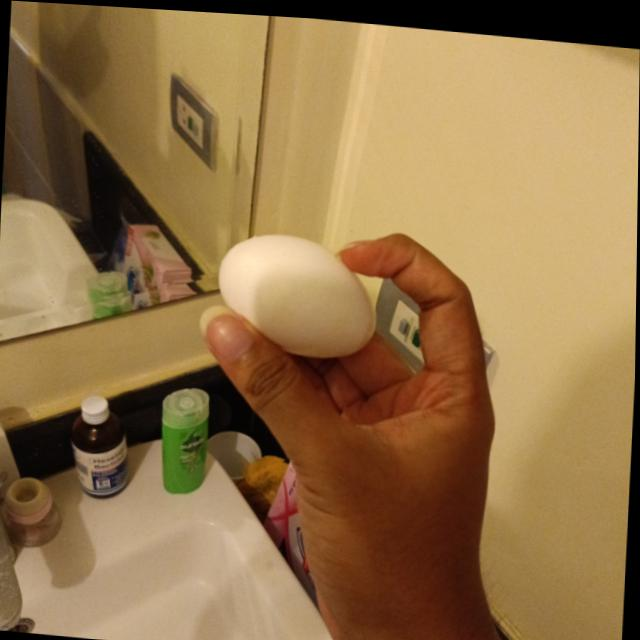egg: (218, 227, 377, 352)
